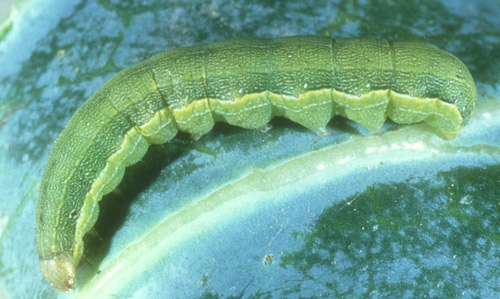Armyworm: (33, 29, 472, 286)
